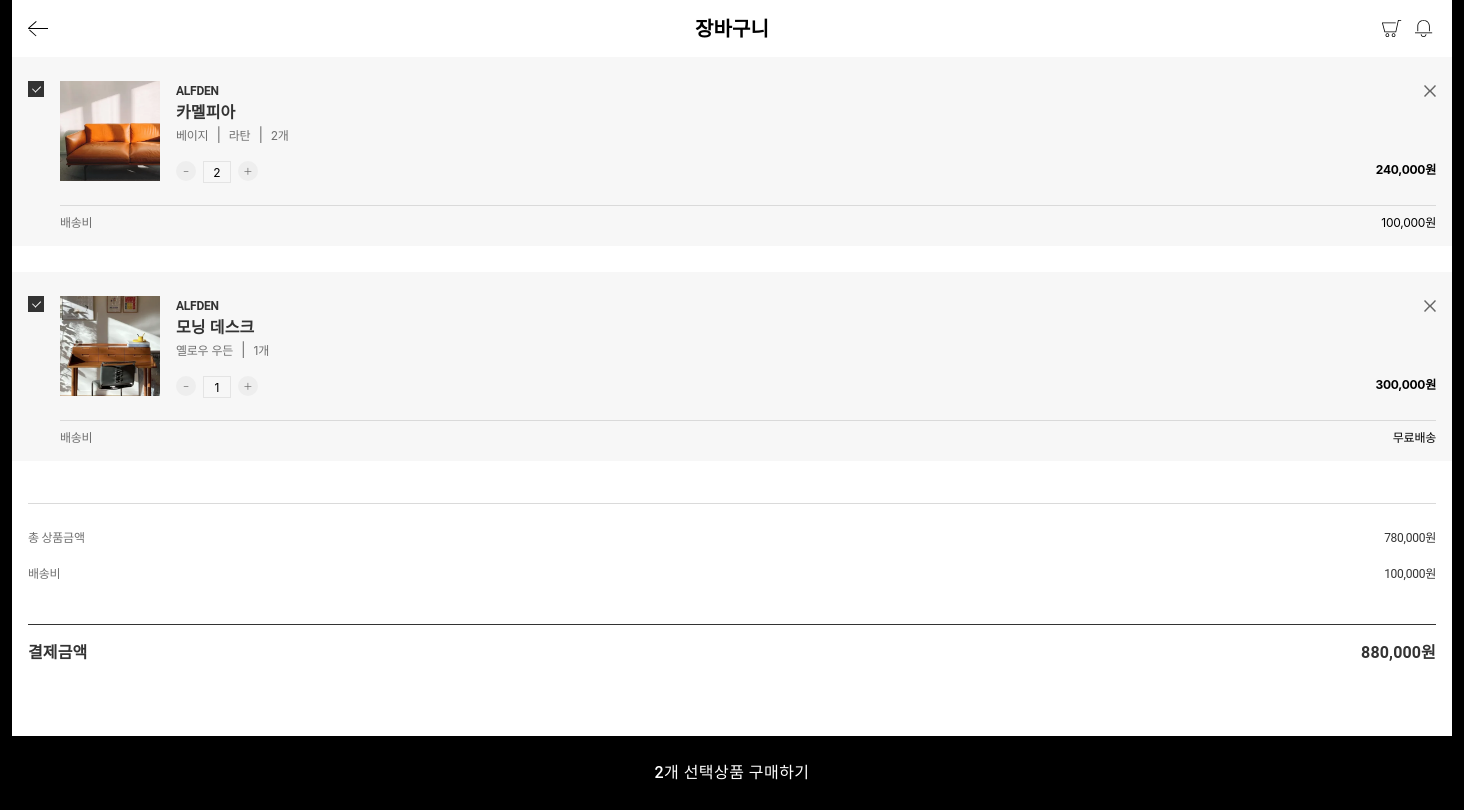
Test: 선택 해제 후 다른 상품을 삭제해도 선택 상태가 어긋나지 않는다 (이전 인덱스 버그)
Click the checkbox named "카멜피아 선택".
click(36, 89)  # box [28,81,44,97]
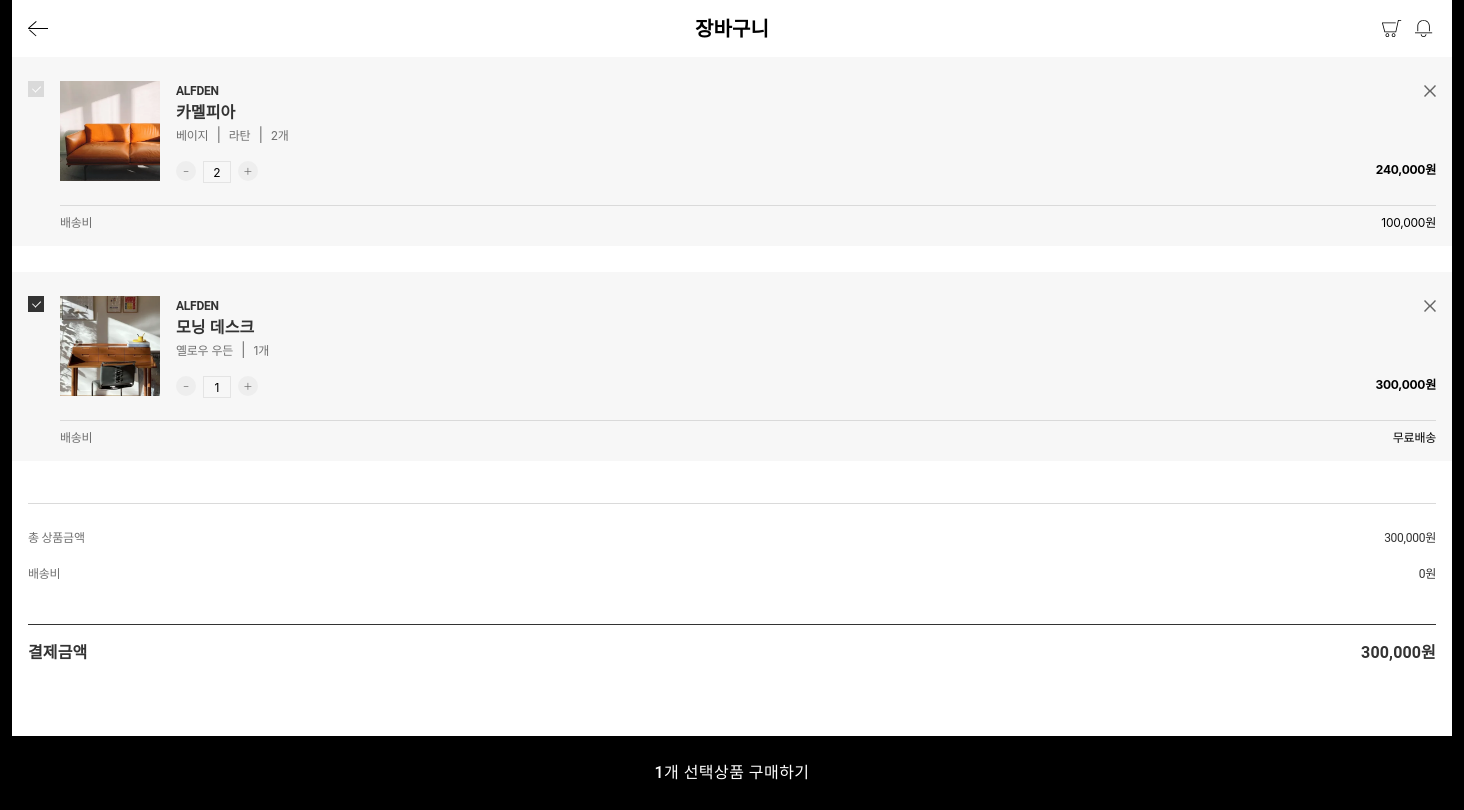
Now the text with test id "cart-total" reads "300,000원", box [1361,643,1436,662]
Click the button named "모닝 데스크 삭제".
click(1430, 306)  # box [1424,296,1436,316]
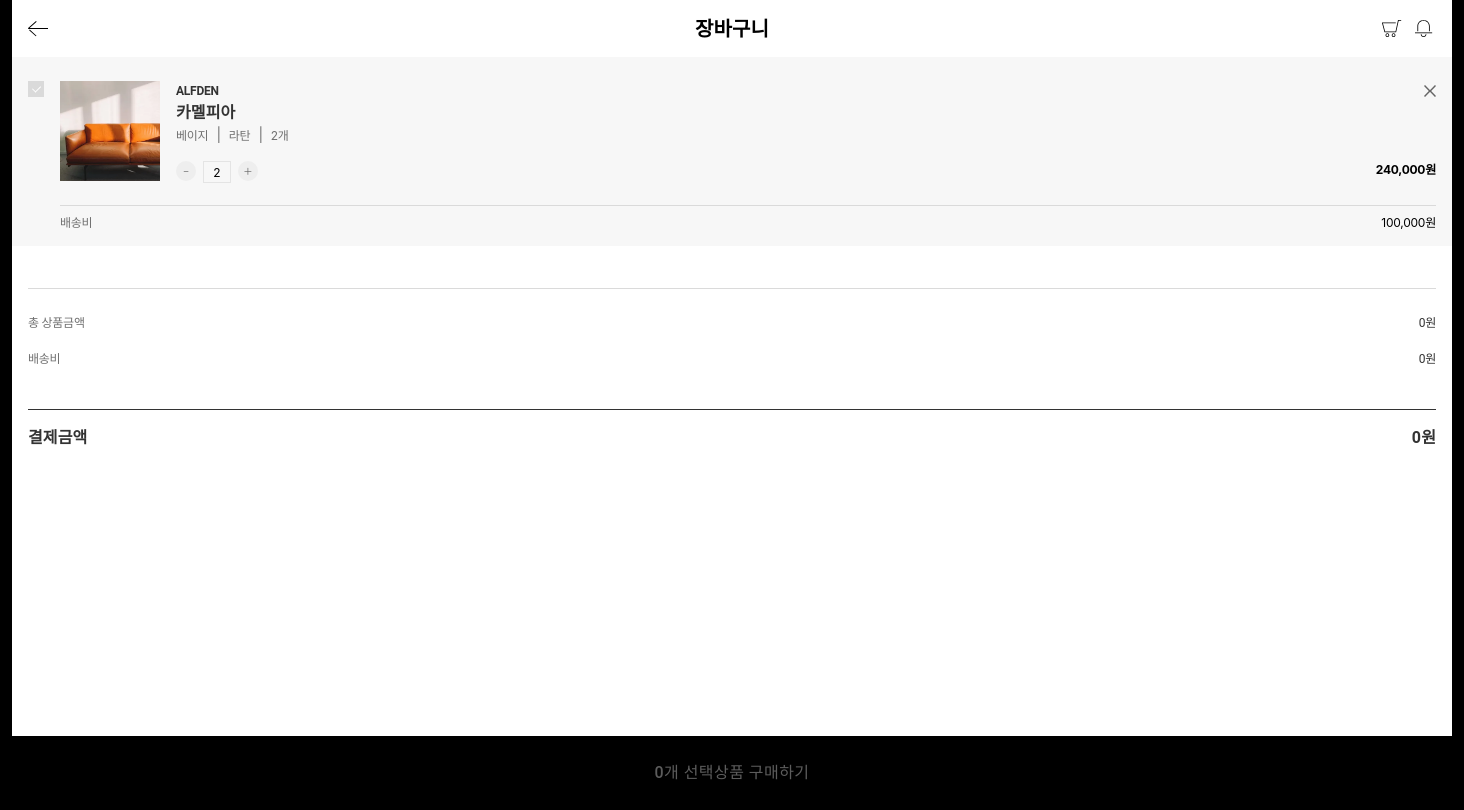
Now the checkbox named "카멜피아 선택" is not checked, box [28,81,44,97]
Now the text "모닝 데스크" is gone
Now the text with test id "cart-total" reads "0원", box [1412,428,1436,447]
